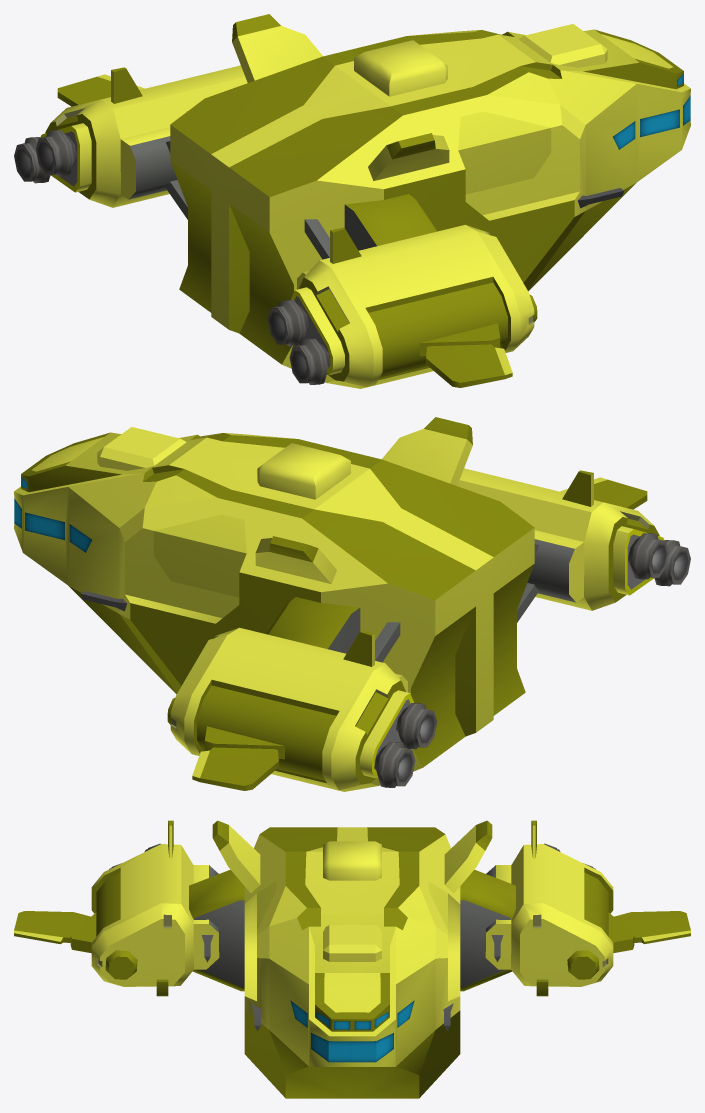
File: EnemyShip4.fbx
3 views of the same model, one above another, from view 1: azimuth 30°, elevation 25°; view 2: azimuth 150°, elevation 25°; view 3: azimuth 270°, elevation 25° (orthographic). The views are drawn at different scales.
Parts seen in each view (by area): view 1: Enemy4Parts.001, Enemy4Parts.002, Enemy4Parts.003; view 2: Enemy4Parts.001, Enemy4Parts.003, Enemy4Parts.002; view 3: Enemy4Parts.001.
Part boxes in pixels (box(x1,y1,x2,y2)): Enemy4Parts.001: box(40, 14, 690, 388); Enemy4Parts.002: box(268, 300, 330, 384); Enemy4Parts.003: box(14, 130, 76, 183); Enemy4Parts.001: box(14, 417, 664, 791); Enemy4Parts.003: box(374, 703, 436, 787); Enemy4Parts.002: box(628, 533, 690, 586); Enemy4Parts.001: box(14, 820, 690, 1098).
Bounding box in the file's own units: 4.91 × 6.73 × 2.58.
